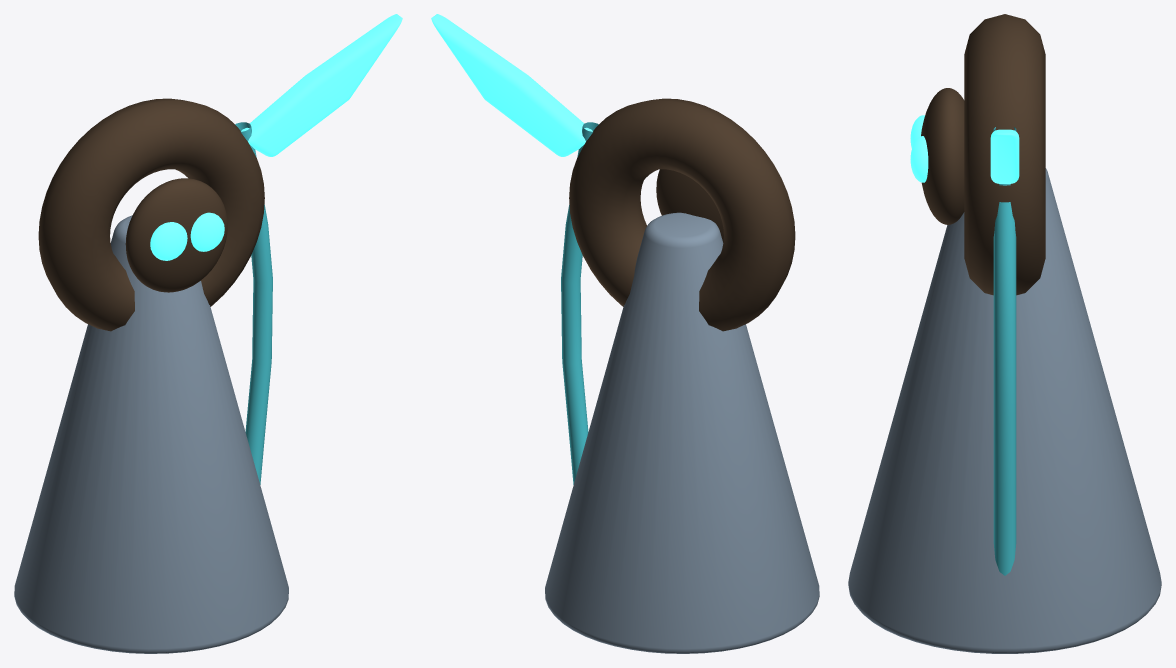
Rendered from wisp_v6.glb.
The picture shows the model from 3 angles, left to right: view 1: azimuth 30°, elevation 25°; view 2: azimuth 150°, elevation 25°; view 3: azimuth 270°, elevation 25°; orthographic projection. The views are drawn at different scales.
Parts seen in each view (by area): view 1: REAPER_ROBE_PRIMARY, REAPER_HOOD_SECONDARY, REAPER_SCYTHE_EMISSIVE, REAPER_VOID_SECONDARY, REAPER_SCYTHE_SHAFT_ACCENT, EYE_EMISSIVE, EYE_EMISSIVE.001; view 2: REAPER_ROBE_PRIMARY, REAPER_HOOD_SECONDARY, REAPER_SCYTHE_EMISSIVE, REAPER_SCYTHE_SHAFT_ACCENT, REAPER_VOID_SECONDARY; view 3: REAPER_ROBE_PRIMARY, REAPER_HOOD_SECONDARY, REAPER_SCYTHE_SHAFT_ACCENT, REAPER_VOID_SECONDARY, REAPER_SCYTHE_EMISSIVE, EYE_EMISSIVE.001.
Part boxes in pixels (box(x1,y1,x2,y2)): REAPER_ROBE_PRIMARY: box(14, 215, 288, 653); REAPER_HOOD_SECONDARY: box(38, 98, 264, 331); REAPER_SCYTHE_EMISSIVE: box(241, 14, 402, 156); REAPER_VOID_SECONDARY: box(125, 178, 227, 292); REAPER_SCYTHE_SHAFT_ACCENT: box(235, 122, 272, 484); EYE_EMISSIVE: box(150, 222, 187, 260); EYE_EMISSIVE.001: box(190, 212, 224, 251); REAPER_ROBE_PRIMARY: box(545, 212, 819, 653); REAPER_HOOD_SECONDARY: box(569, 98, 795, 331); REAPER_SCYTHE_EMISSIVE: box(431, 14, 592, 156); REAPER_SCYTHE_SHAFT_ACCENT: box(561, 122, 598, 484); REAPER_VOID_SECONDARY: box(656, 169, 723, 242); REAPER_ROBE_PRIMARY: box(848, 168, 1161, 653); REAPER_HOOD_SECONDARY: box(964, 14, 1045, 295); REAPER_SCYTHE_SHAFT_ACCENT: box(993, 127, 1016, 575); REAPER_VOID_SECONDARY: box(921, 88, 964, 224); REAPER_SCYTHE_EMISSIVE: box(990, 129, 1019, 183); EYE_EMISSIVE.001: box(910, 136, 928, 182).
Bounding box in the file's own units: 1.85 × 2.51 × 1.2.
